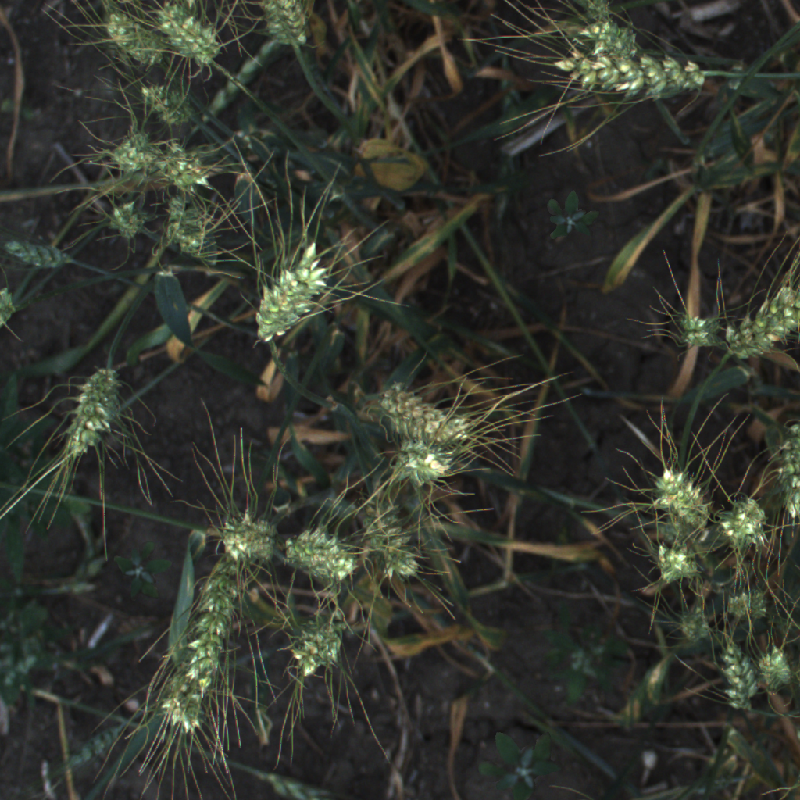spikelet: (160, 553, 246, 728), (548, 42, 710, 110), (369, 378, 484, 450), (255, 239, 332, 336), (721, 285, 800, 367), (52, 371, 117, 467), (150, 1, 227, 70), (365, 496, 422, 572), (278, 528, 355, 582), (652, 467, 714, 528), (567, 17, 650, 61), (222, 512, 284, 568), (249, 1, 318, 51), (389, 428, 446, 484), (289, 619, 345, 675), (714, 632, 755, 707), (107, 15, 164, 64), (716, 496, 766, 550), (773, 424, 799, 525), (155, 140, 208, 189), (166, 194, 210, 252), (7, 237, 71, 269), (107, 128, 153, 171), (142, 83, 192, 122), (651, 542, 696, 581), (675, 312, 721, 348), (759, 646, 790, 692), (728, 587, 768, 619), (108, 200, 143, 235), (677, 606, 708, 642)
weed: (468, 714, 574, 800), (537, 183, 606, 252), (114, 541, 172, 601)
